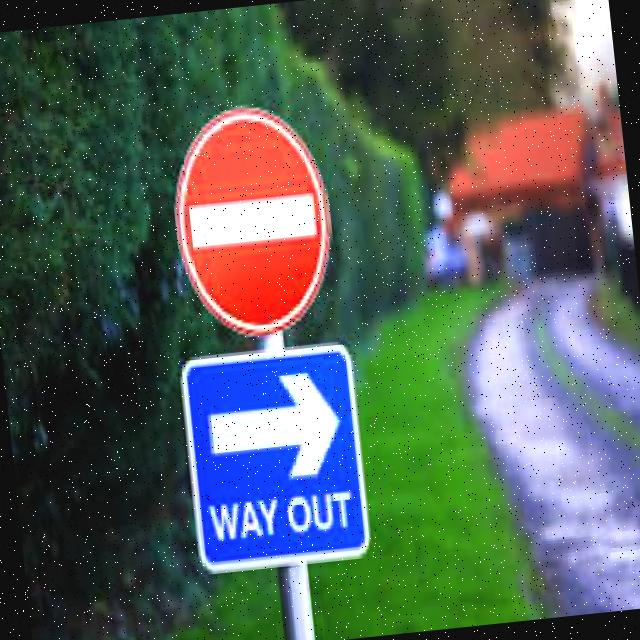Zakaz wjazdu: (168, 87, 336, 346)
